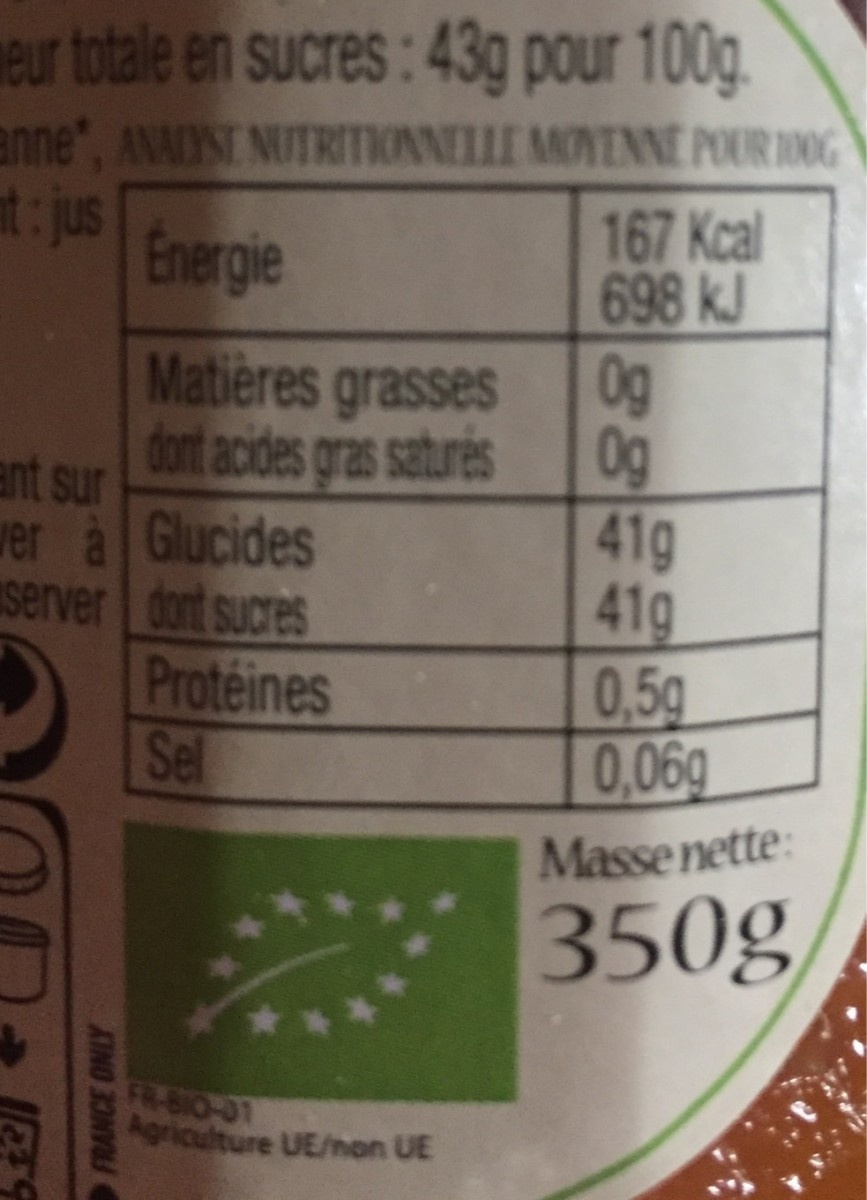column: (145, 219, 499, 793), (592, 196, 768, 806)
table: (115, 184, 844, 808)
